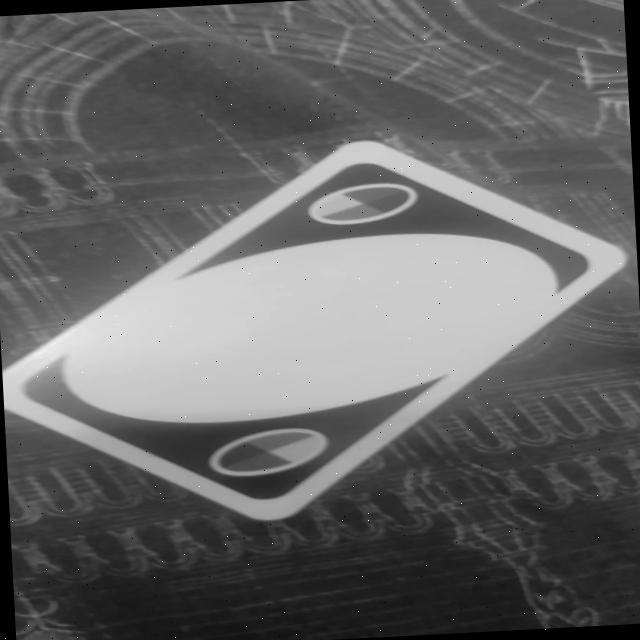wild_card: (0, 124, 640, 534)
